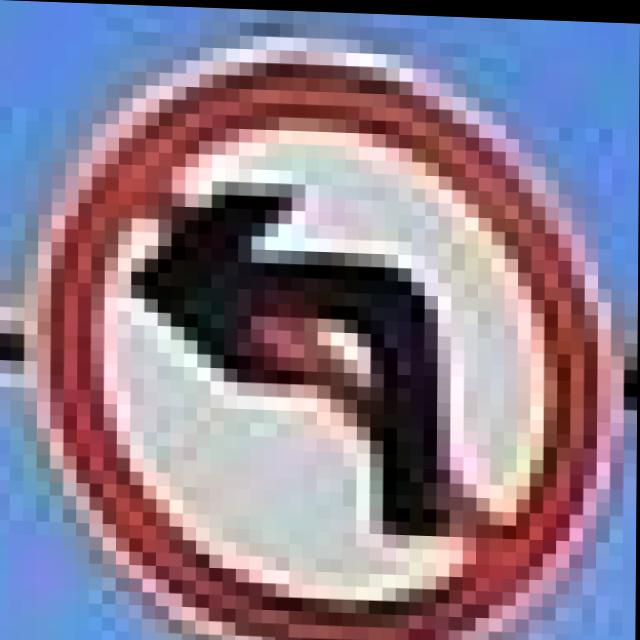LEFT_TURN_PROHIBITED: (22, 27, 613, 640)
